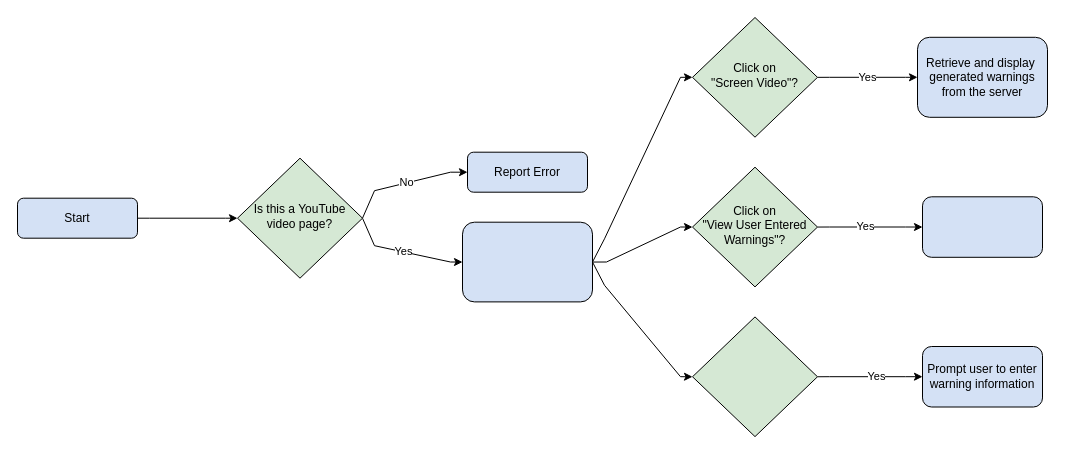
This 1065x455 diagram has some shape labels left out. The centre of each missing label's shape, as x and y in pixels:
Click on "Create New Warning"?: (755,376)
Retrieve and display user warnings from the server: (982,226)
Retrieve video ID from server and display the extension window: (527,261)
